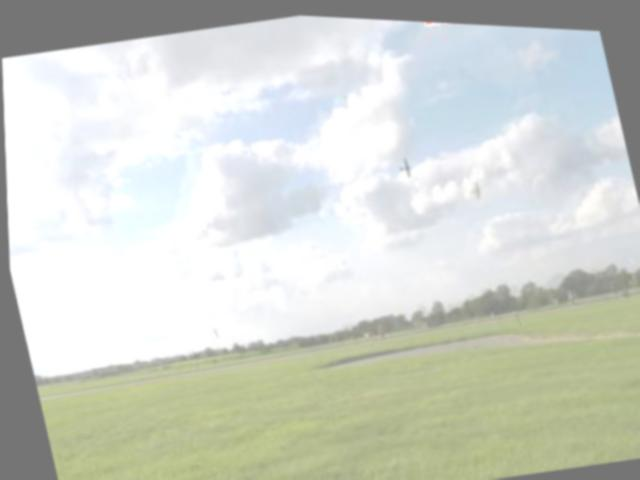uav: (460, 168, 486, 202), (391, 147, 416, 179)
